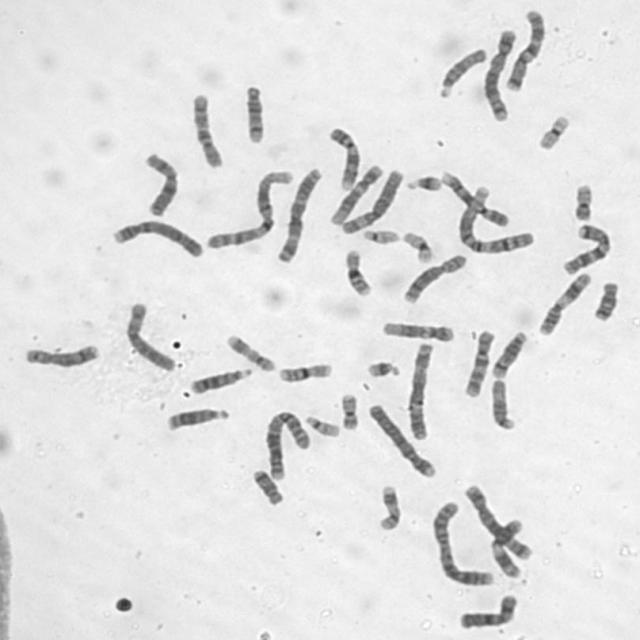A1: (202, 166, 294, 252), (455, 184, 537, 255)
A2: (428, 498, 496, 588), (261, 407, 312, 481)
A3: (273, 165, 323, 264), (404, 340, 436, 440)
B4: (365, 400, 438, 480), (109, 216, 204, 259)
B5: (460, 480, 535, 562), (480, 28, 519, 122)
C10: (188, 90, 225, 171), (460, 326, 498, 400)
C11: (535, 270, 593, 337), (489, 516, 526, 579)
C12: (326, 161, 385, 227), (379, 318, 456, 343)
C6: (337, 165, 405, 237), (122, 297, 177, 373)
C7: (502, 7, 546, 92), (558, 221, 613, 277)
C8: (400, 250, 469, 306), (22, 340, 102, 370)
C9: (439, 167, 511, 229), (326, 124, 362, 191)
D13: (188, 364, 254, 396), (164, 404, 230, 434)
D14: (488, 328, 530, 378), (240, 80, 270, 148)
D15: (435, 45, 489, 99), (488, 376, 517, 432)
E16: (340, 247, 374, 298), (274, 360, 335, 384)
E17: (224, 331, 278, 373), (374, 481, 403, 534)
E18: (249, 466, 285, 507), (590, 278, 621, 322)
F19: (535, 112, 572, 151), (399, 228, 436, 264)
F20: (569, 181, 595, 222), (338, 390, 360, 431)
G21: (404, 170, 444, 193), (363, 357, 402, 379)
G22: (302, 412, 341, 438), (359, 226, 401, 246)
X: (140, 148, 180, 218), (456, 591, 520, 631)
